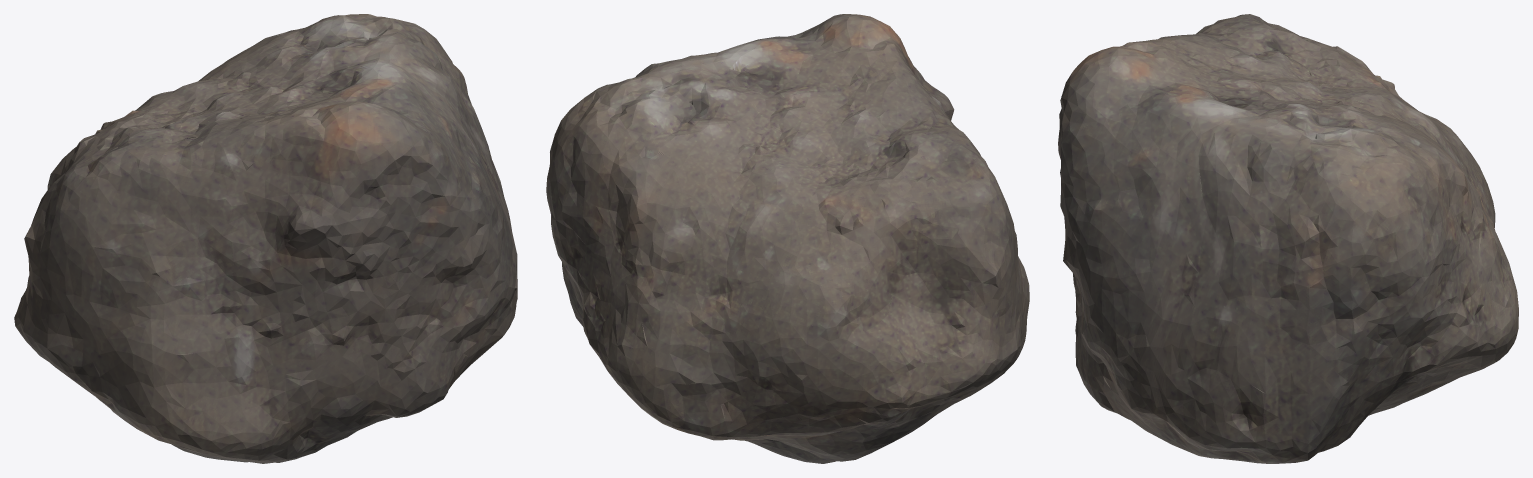
File: rock2.glb
3 views of the same model, side by side, from view 1: azimuth 30°, elevation 25°; view 2: azimuth 150°, elevation 25°; view 3: azimuth 270°, elevation 25° (orthographic). The views are drawn at different scales.
Visible parts, largest first — view 1: world; view 2: world; view 3: world.
Part boxes in pixels (x1=…): world: x1=14, y1=14, x2=517, y2=463; world: x1=546, y1=14, x2=1029, y2=463; world: x1=1058, y1=14, x2=1518, y2=463.
Size of the model in its own units: 0.5821 by 0.4893 by 0.5019.
Materials: 1 (1 with a texture image).
